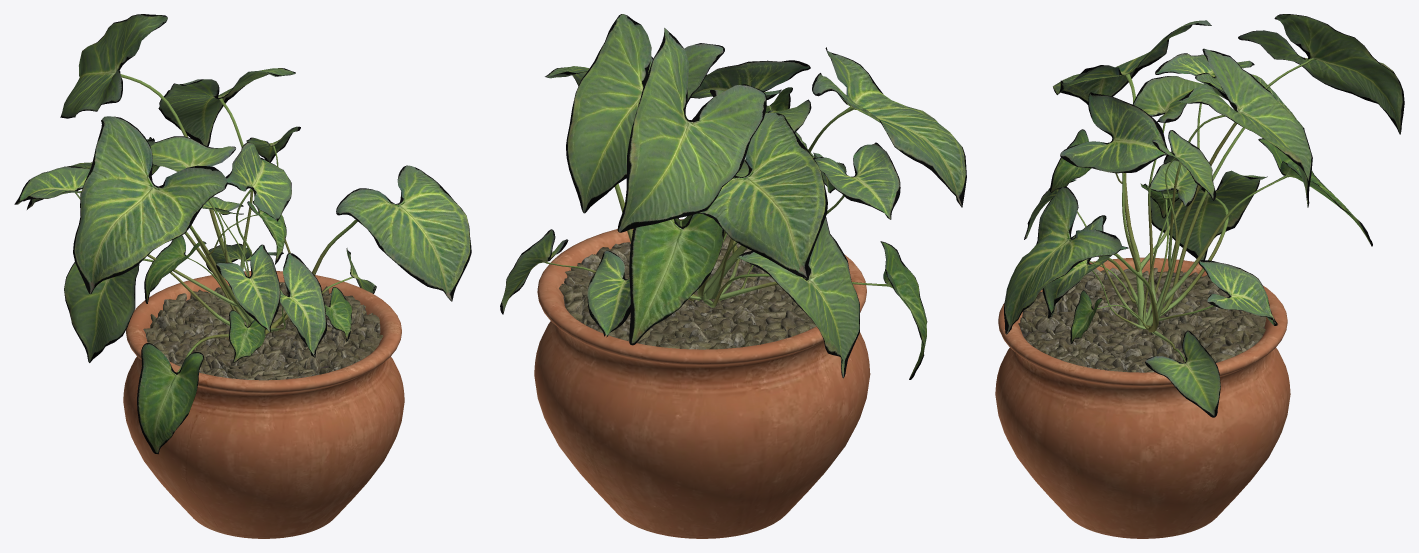
The model's file is potted_plant_02.glb.
3 renders of one model, left to right at view 1: azimuth 30°, elevation 25°; view 2: azimuth 150°, elevation 25°; view 3: azimuth 270°, elevation 25°, orthographic. The views are drawn at different scales.
Parts seen in each view (by area): view 1: potted_plant_02_leaves, potted_plant_02_pot; view 2: potted_plant_02_leaves, potted_plant_02_pot; view 3: potted_plant_02_pot, potted_plant_02_leaves.
Boxes of the visible parts, box(x1,y1,x2,y2) form: potted_plant_02_leaves: box(14, 14, 471, 454); potted_plant_02_pot: box(123, 271, 404, 538); potted_plant_02_leaves: box(500, 14, 966, 379); potted_plant_02_pot: box(534, 219, 870, 538); potted_plant_02_pot: box(995, 257, 1290, 538); potted_plant_02_leaves: box(1004, 14, 1404, 417).
Bounding box in the file's own units: 0.7012 × 0.8412 × 0.6574.
Materials: 2 (2 with a texture image).
